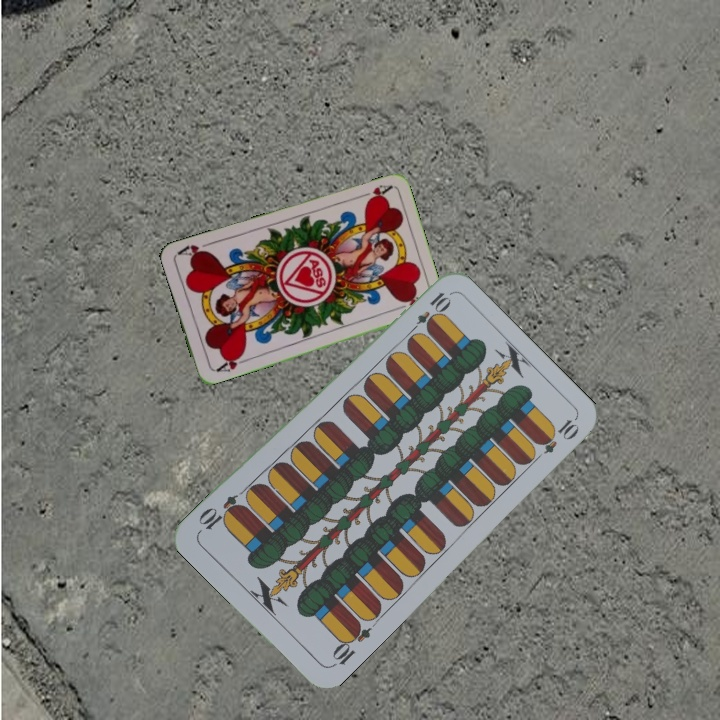E10: (327, 617, 374, 670), (405, 287, 452, 338)
HA: (210, 350, 250, 375), (354, 181, 394, 205)
